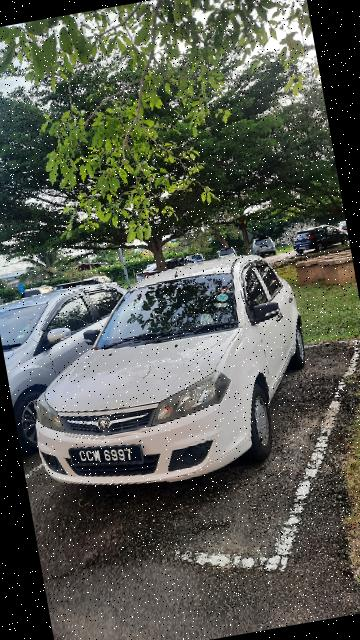License_Plate: (66, 434, 149, 480)
car: (6, 241, 330, 508)
